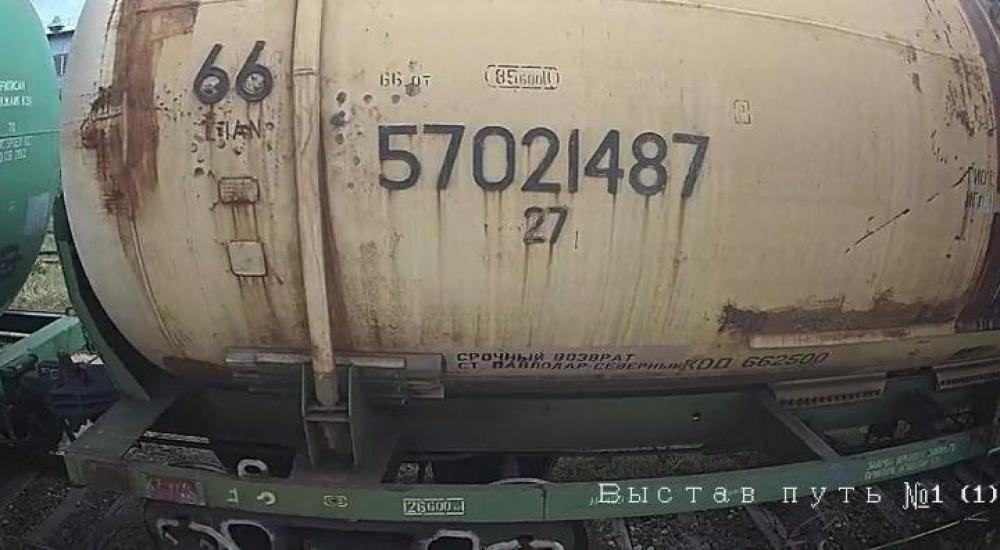Wagon-number: (373, 118, 716, 201)
